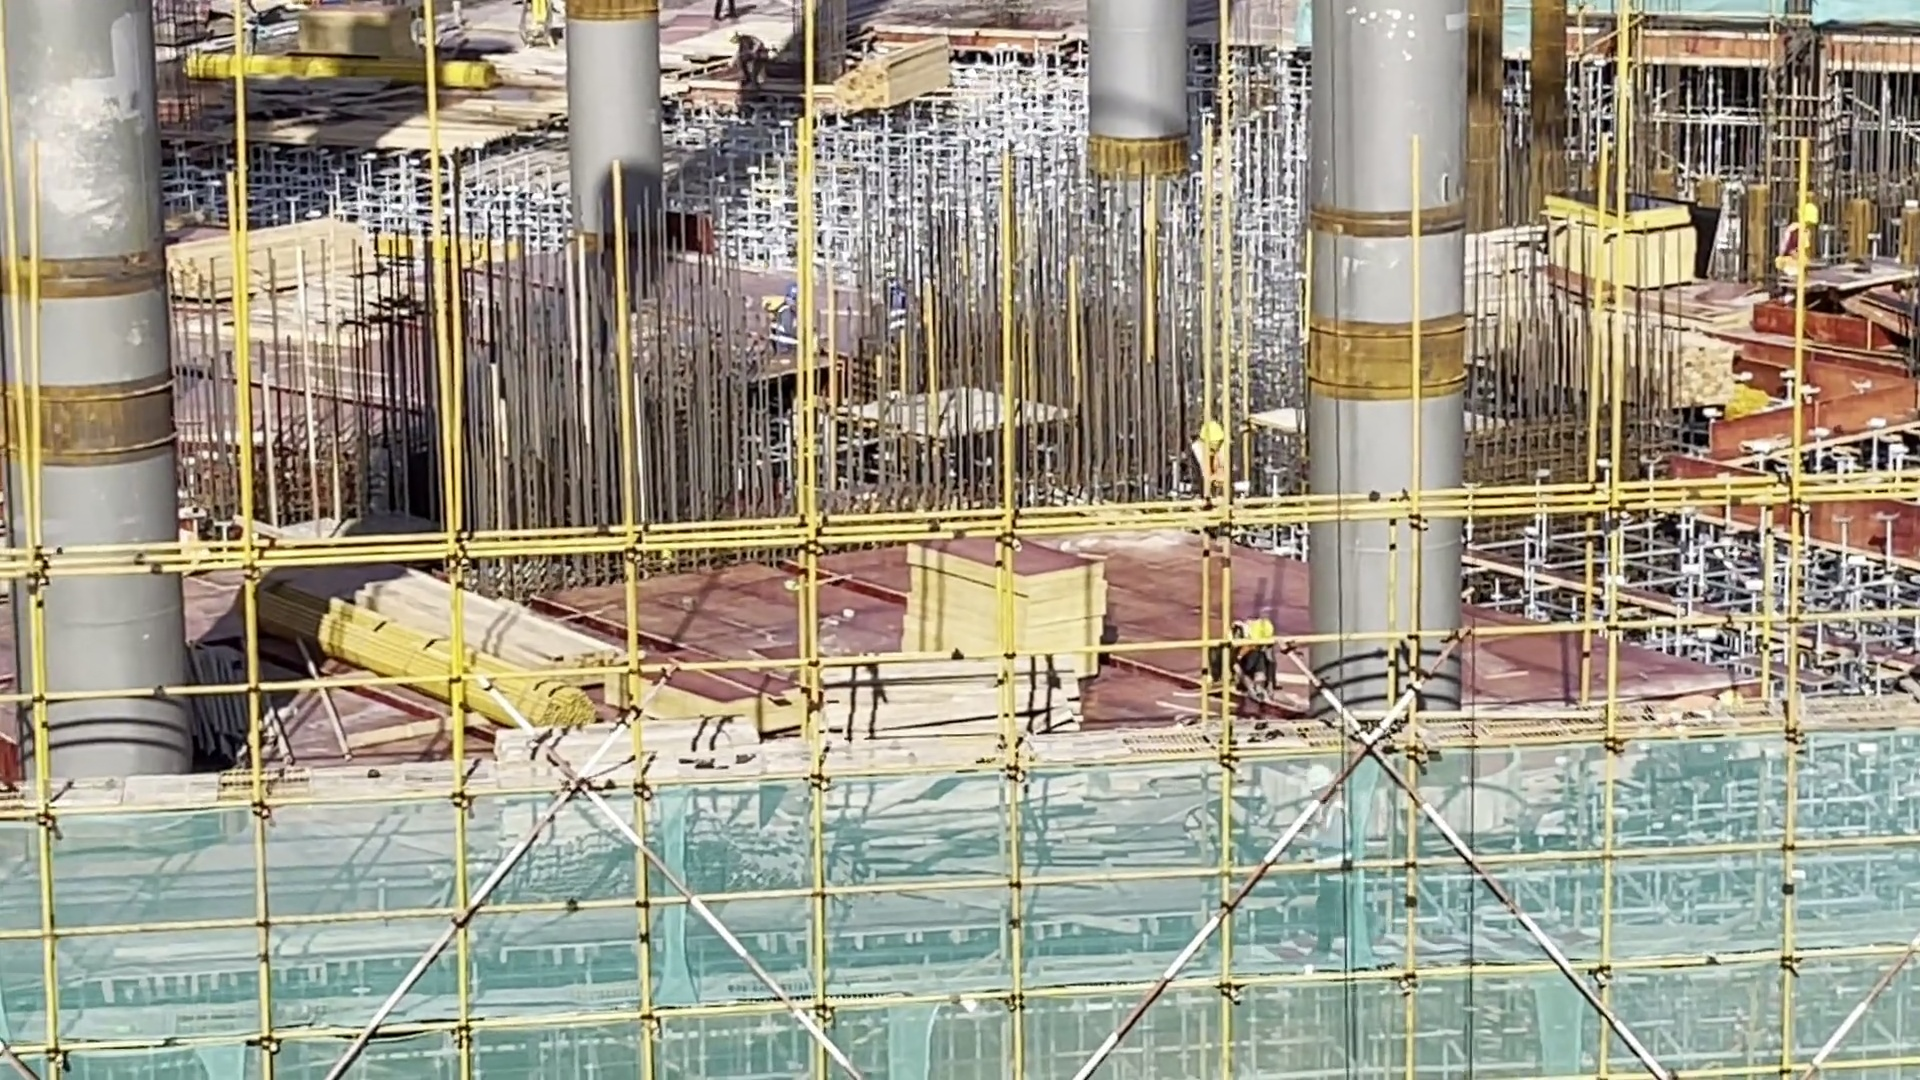board: (908, 524, 1102, 672)
person: (1211, 607, 1278, 685)
wood: (325, 584, 631, 720), (820, 664, 1082, 729), (166, 223, 383, 297), (831, 49, 962, 115), (1665, 327, 1740, 412)
